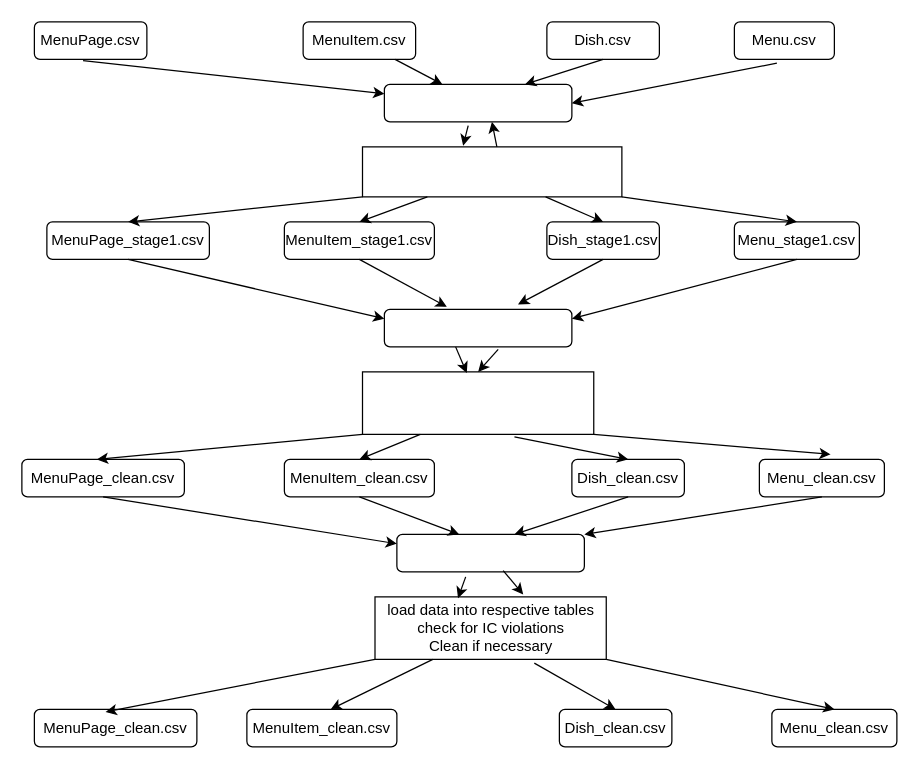
The diagram is 919 pixels wide and 769 high, and some of its shapes have lost their labels. The shapes that lost their labels are listed below. From the top down, each one's centre as x and y in pixels, then its label:
At (x=477, y=102): "Pythonscript".
At (x=491, y=171): "Clean data based on python script on Jupyter Notebook".
At (x=477, y=327): "OpenRefine Sequence".
At (x=477, y=402): "upload data and clean".
At (x=490, y=552): "SQLite Sequence".
